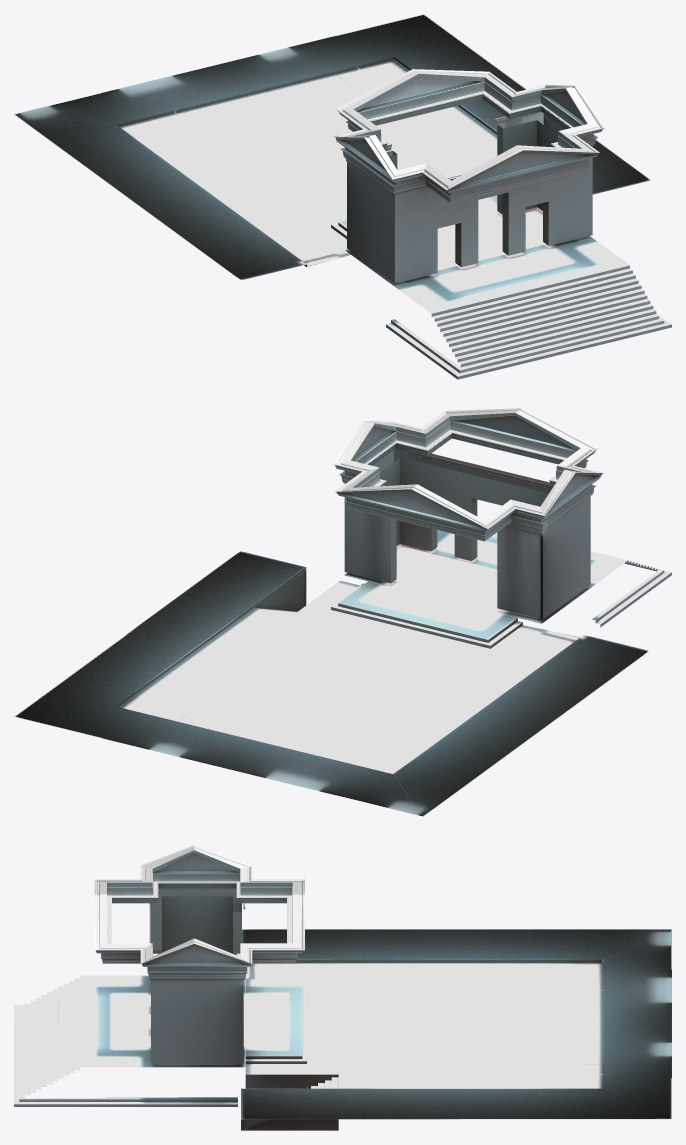
Rendered from asklepieion.glb.
The picture shows the model from 3 angles, top to bottom: view 1: azimuth 30°, elevation 25°; view 2: azimuth 150°, elevation 25°; view 3: azimuth 270°, elevation 25°; orthographic projection. The views are drawn at different scales.
Parts seen in each view (by area): view 1: propylon-court-floor, propylon-cornice, propylon-walls; view 2: propylon-court-floor, propylon-cornice, propylon-walls; view 3: propylon-court-floor, propylon-cornice, propylon-walls.
Boxes of the visible parts, x1,y1,x2,y2 form: propylon-court-floor: (14,14,671,379); propylon-cornice: (334,69,604,202); propylon-walls: (347,113,592,283); propylon-court-floor: (14,530,671,816); propylon-cornice: (333,408,603,541); propylon-walls: (344,450,590,619); propylon-court-floor: (14,929,671,1130); propylon-cornice: (94,845,304,982); propylon-walls: (151,891,243,1064).
Bounding box in the file's own units: 32.78 × 13.83 × 47.97.
Materials: 3 (3 with a texture image).
